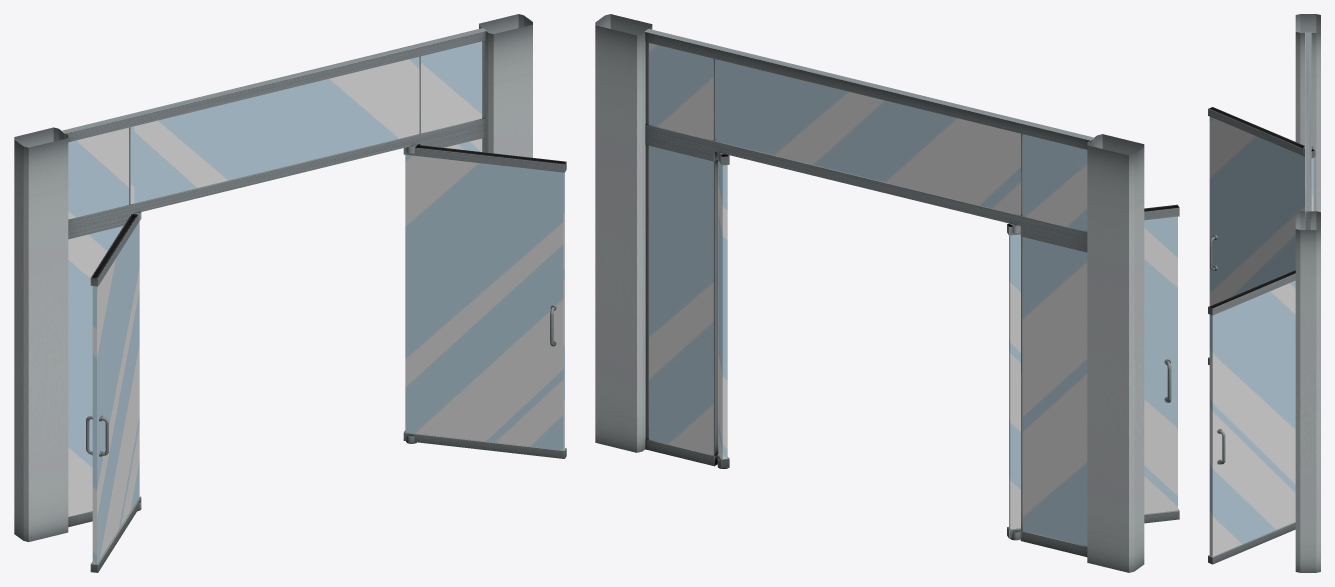
The model's file is EntranceDoor (merge).fbx.
3 views of the same model, side by side, from view 1: azimuth 30°, elevation 25°; view 2: azimuth 150°, elevation 25°; view 3: azimuth 270°, elevation 25° (orthographic). The views are drawn at different scales.
Visible parts, largest first — view 1: Glass, Columns, Frame, Columns (1), Door Frames; view 2: Glass, Columns, Columns (1), Frame, Door Frames; view 3: Glass, Columns (1), Door Frames, Columns, Frame.
Part boxes in pixels (x1,y1,x2,y2): Glass: (68,41,564,563); Columns: (14,127,68,541); Frame: (61,28,485,527); Columns (1): (479,14,532,157); Door Frames: (86,144,566,572); Glass: (649,43,1177,546); Columns: (1087,134,1144,572); Columns (1): (595,14,652,452); Frame: (645,29,1094,556); Door Frames: (717,152,1179,540); Glass: (1209,117,1313,556); Columns (1): (1295,211,1320,572); Door Frames: (1208,107,1315,564); Columns: (1295,14,1320,212); Frame: (1305,32,1311,229).
Bounding box in the file's own units: 4.05 × 3 × 0.8956.
4 materials, 4 textured.
